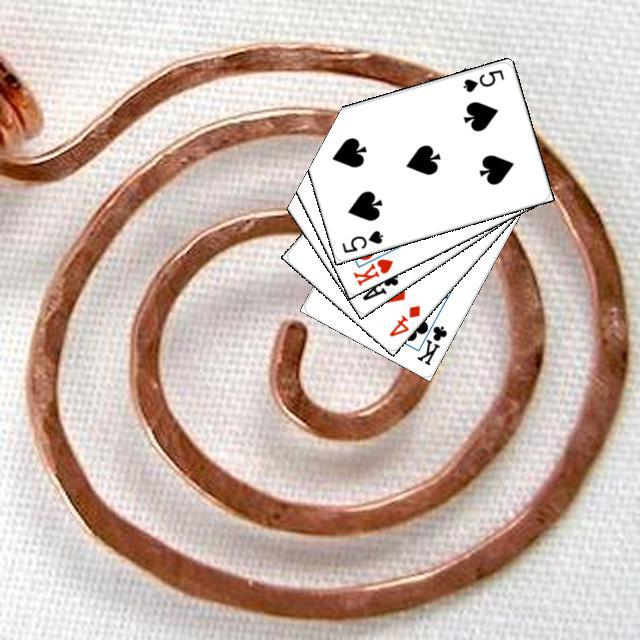4d: (384, 300, 422, 338)
5s: (337, 225, 385, 255), (458, 64, 506, 94)
Ac: (357, 267, 400, 302)
Kc: (411, 312, 449, 367)
Kh: (348, 245, 395, 287)
